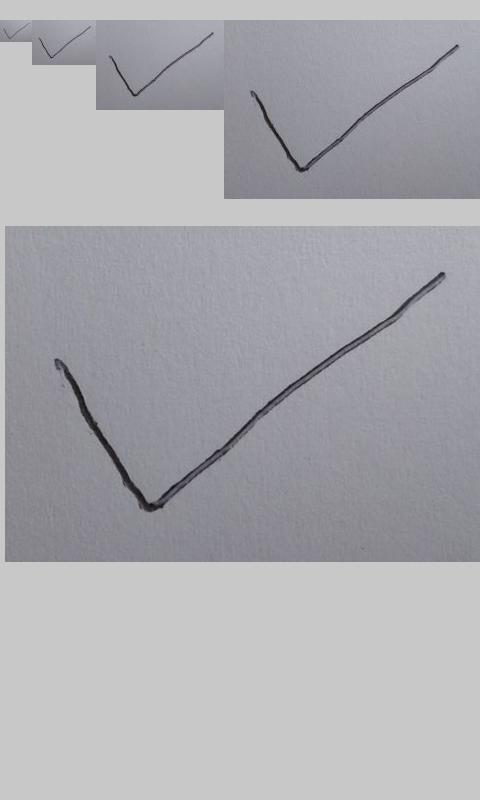check_box: (54, 272, 445, 514), (251, 45, 459, 172), (110, 32, 214, 97), (38, 26, 91, 59), (3, 23, 29, 39)
